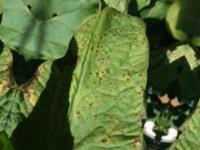Tomato Septoria leaf spot: (31, 0, 189, 150)
